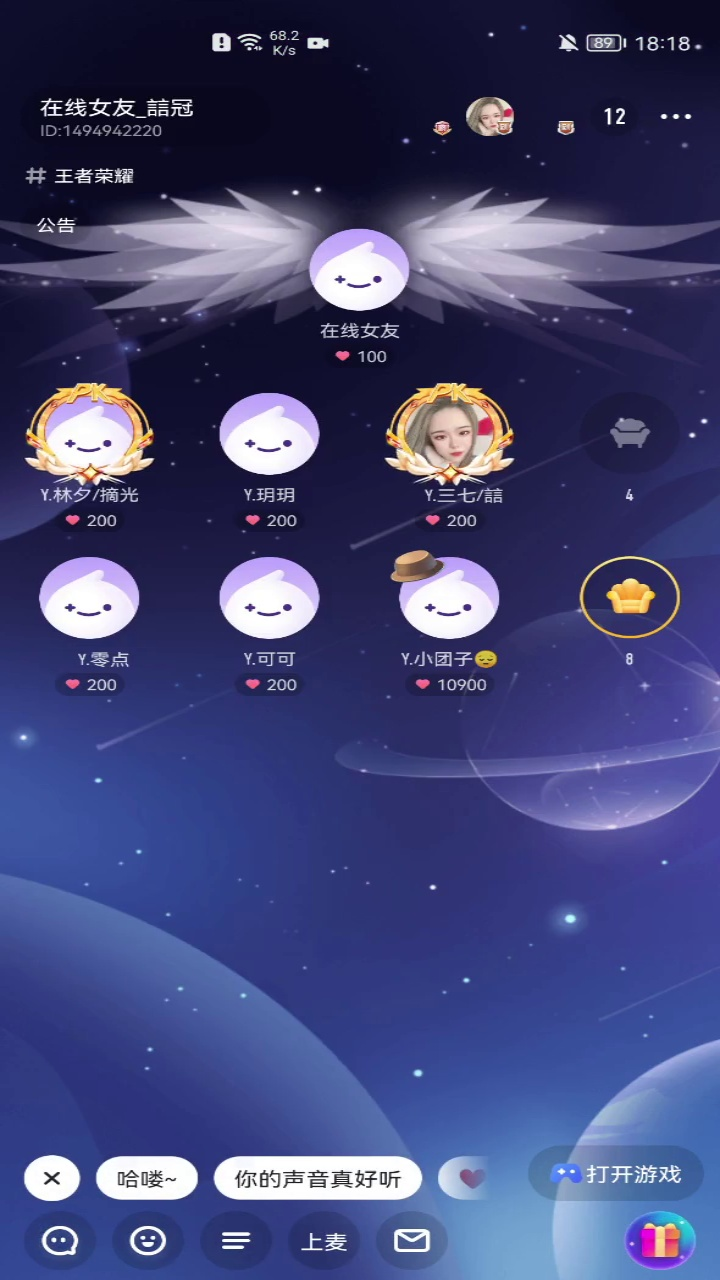avatar: (19, 378, 159, 486), (381, 541, 504, 650), (32, 550, 148, 641), (304, 225, 413, 317), (217, 550, 323, 642), (216, 390, 323, 481)
